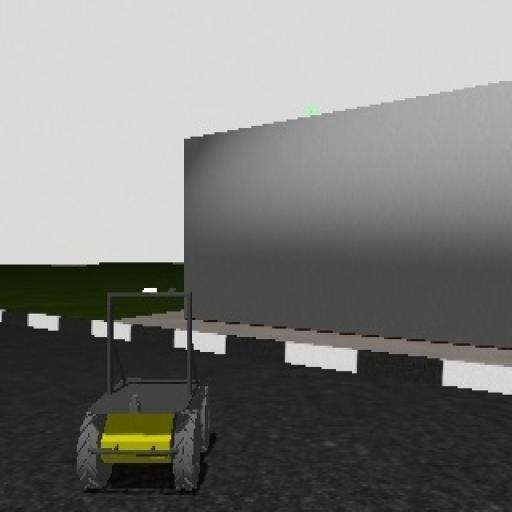huskya200: (77, 283, 209, 500)
